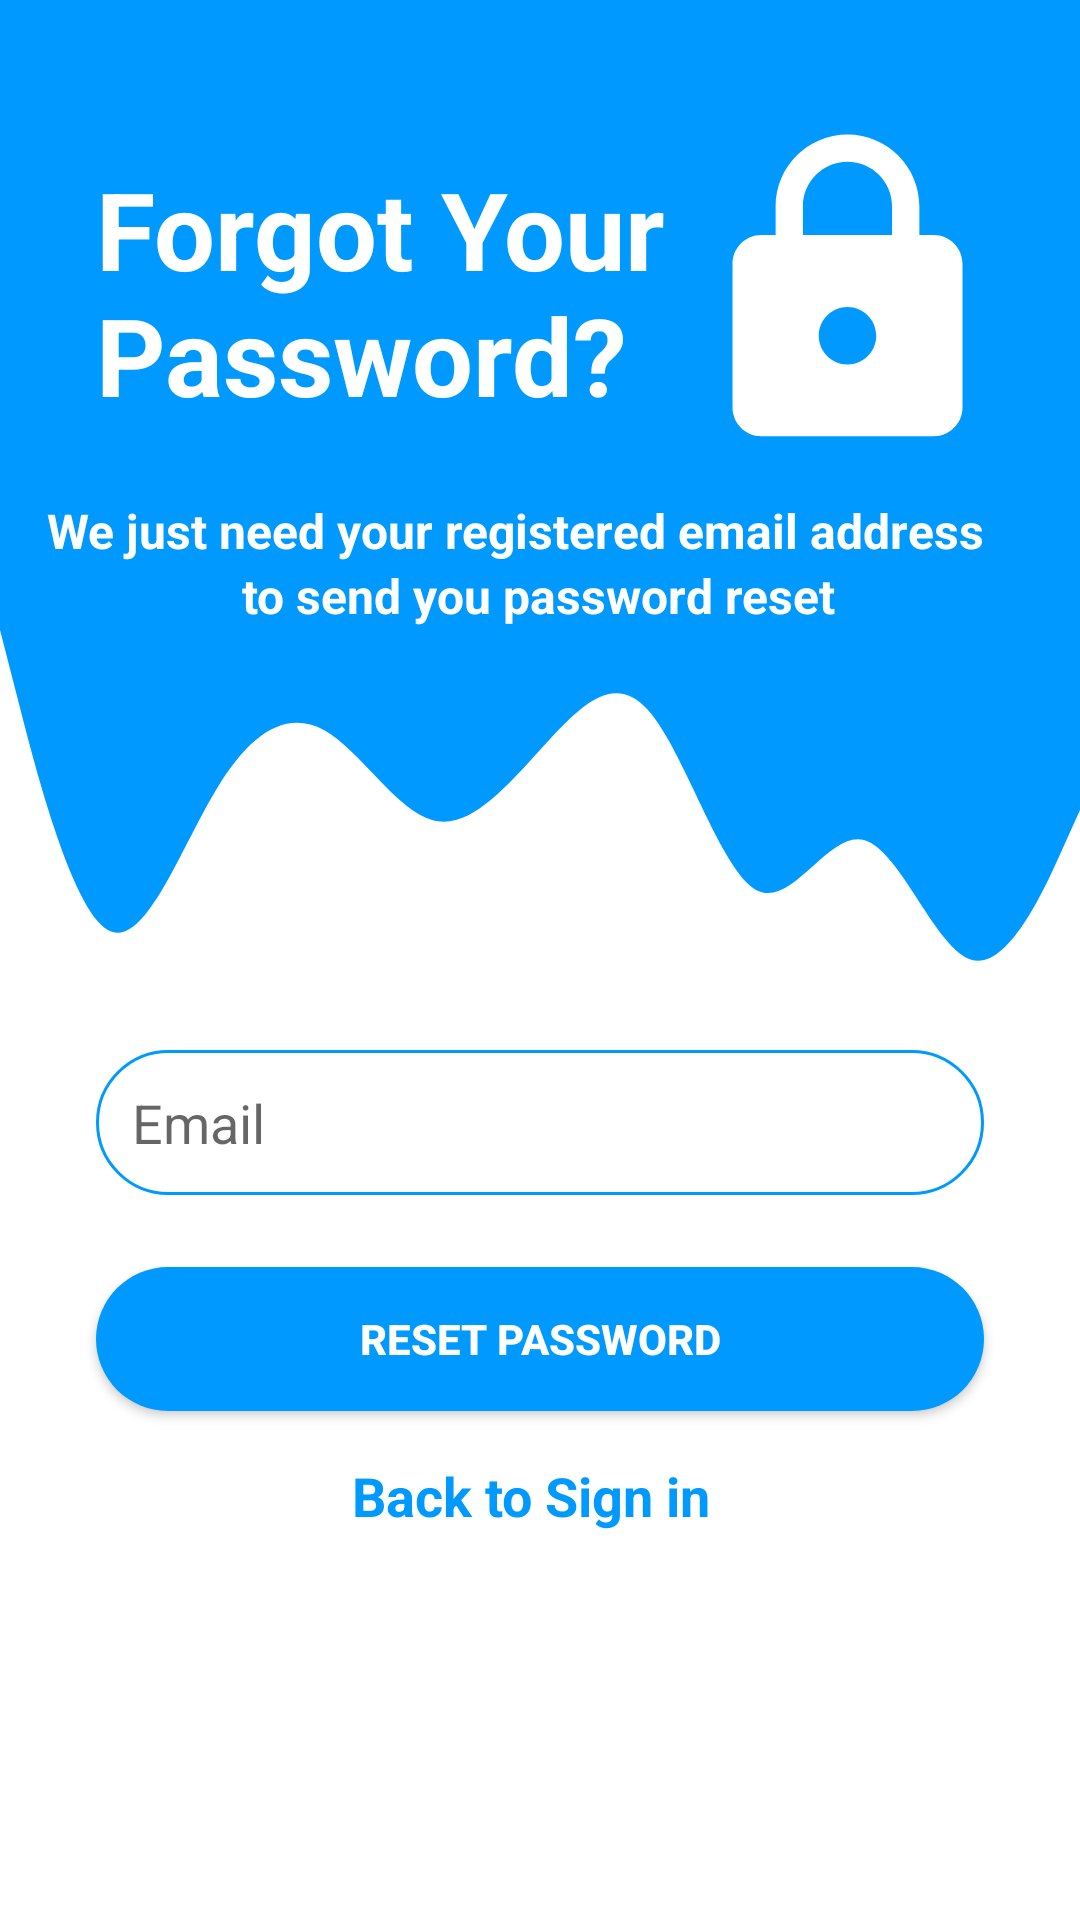

Screen size 1080*1920. Icon name, then its box in pixels as region(x1, y1, x2, y2):
lock: region(732, 134, 963, 437)
